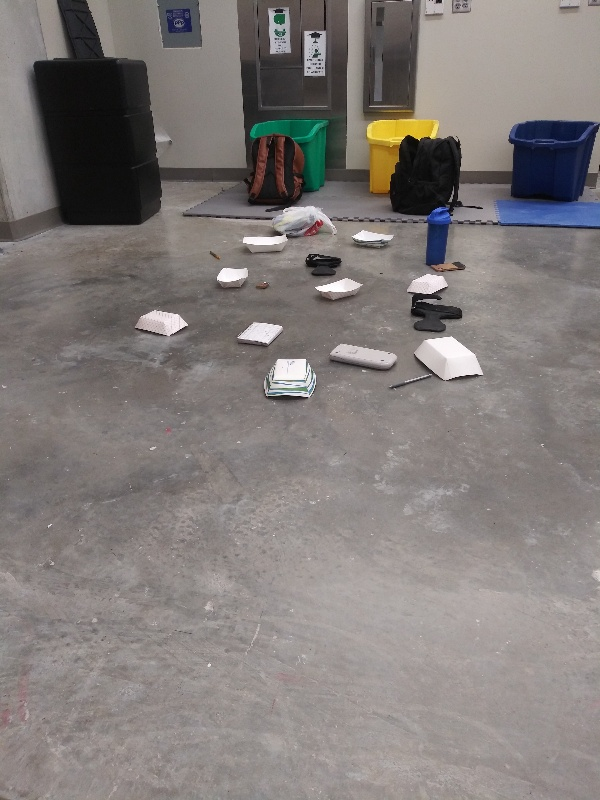plate: (410, 333, 486, 384), (263, 355, 319, 402), (130, 306, 189, 341), (312, 274, 367, 303), (404, 268, 451, 300), (214, 261, 257, 293), (237, 231, 292, 256), (347, 225, 396, 252)
